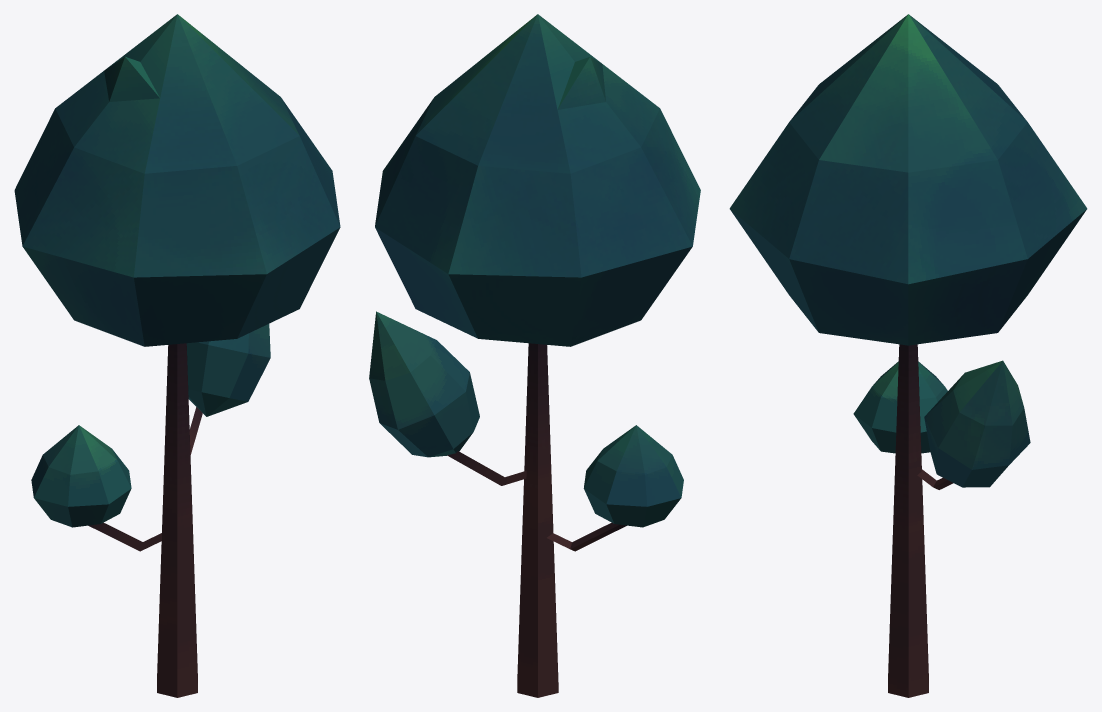
Rendered from Tree5.gltf.
3 renders of one model, left to right at view 1: azimuth 30°, elevation 25°; view 2: azimuth 150°, elevation 25°; view 3: azimuth 270°, elevation 25°, orthographic.
Parts seen in each view (by area): view 1: cuboid (×3), cylinder (×2); view 2: cuboid (×3), cylinder (×3); view 3: cuboid (×3), cylinder.
Part boxes in pixels (left/top/right/bottom): cuboid (×3): left=14, top=14, right=340, bottom=527; cylinder (×2): left=88, top=343, right=197, bottom=697; cuboid (×3): left=369, top=14, right=700, bottom=527; cylinder (×3): left=447, top=343, right=626, bottom=697; cuboid (×3): left=729, top=14, right=1087, bottom=487; cylinder: left=888, top=344, right=928, bottom=697.
Size of the model in its own units: 1.62 by 3.38 by 1.62.
Materials: 1 (1 with a texture image).
